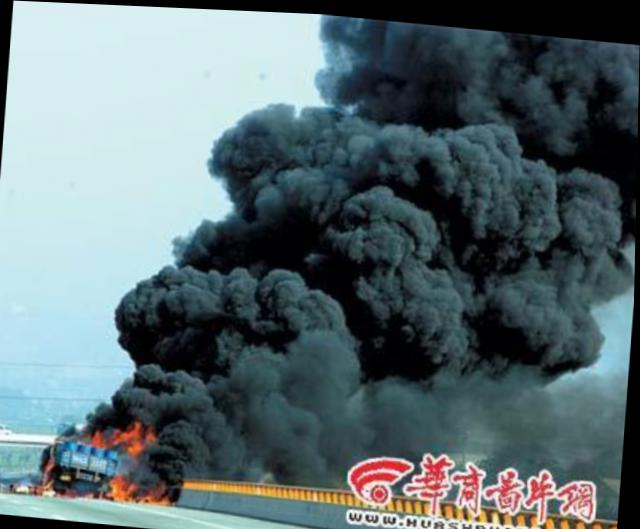fire: (27, 403, 209, 510)
